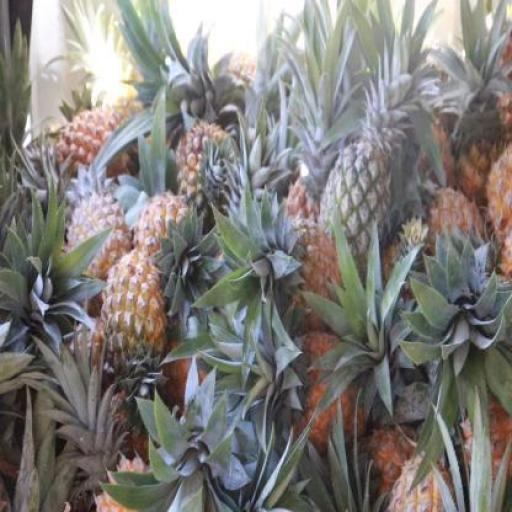Pineapple - v8 v1: (104, 255, 166, 380)
